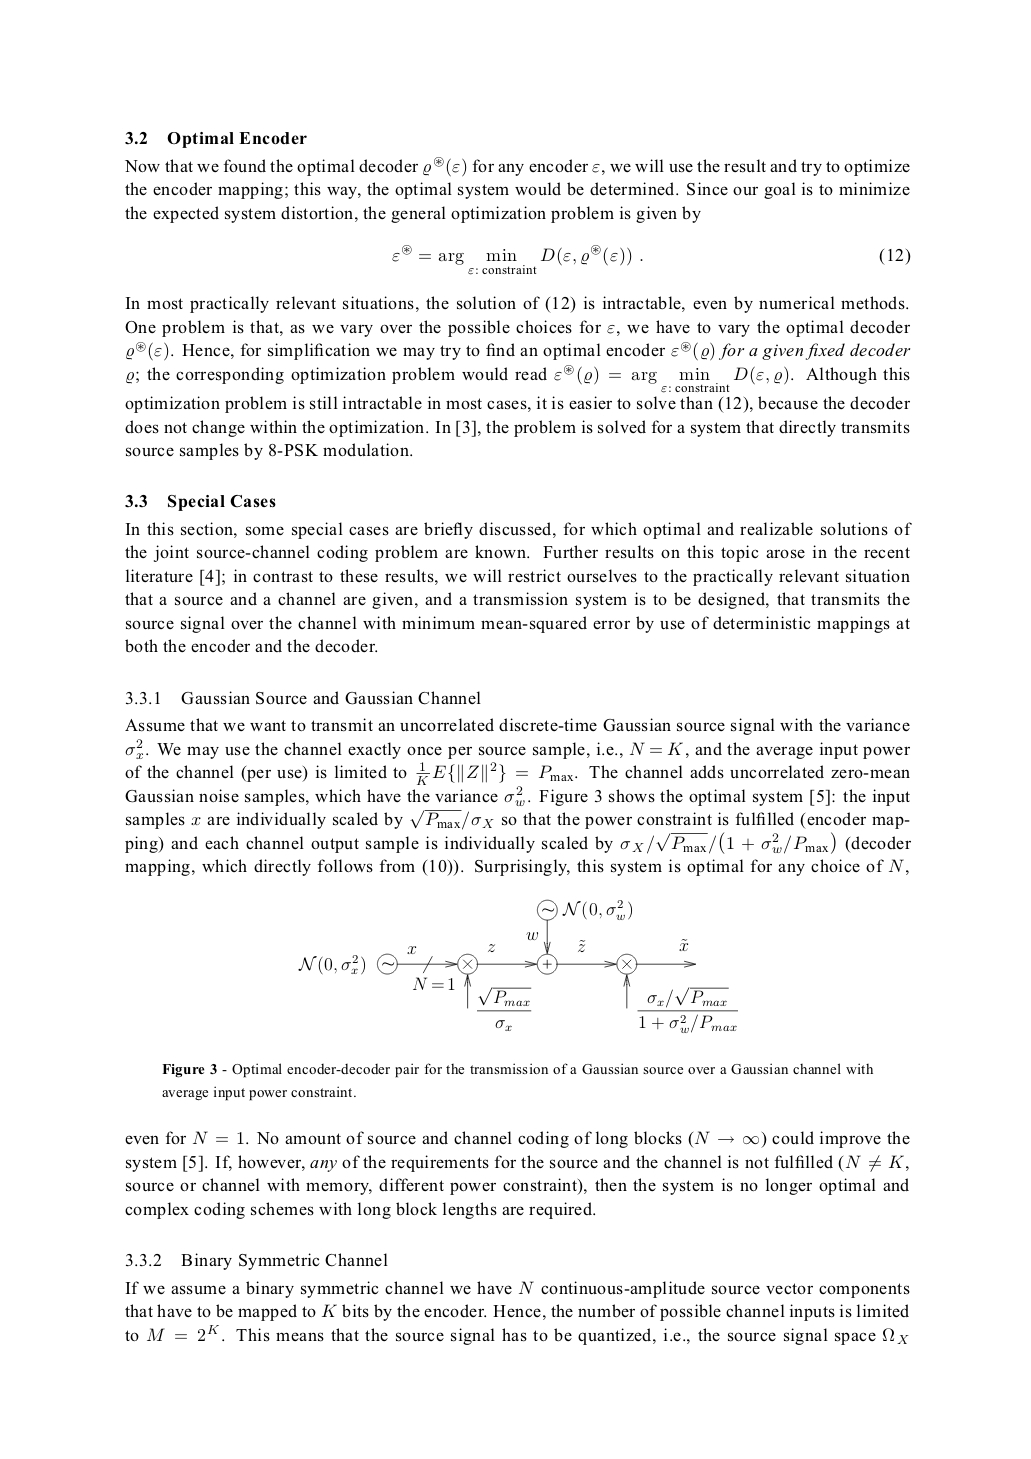figure: (298, 898, 738, 1034)
formula: (392, 245, 910, 274)
